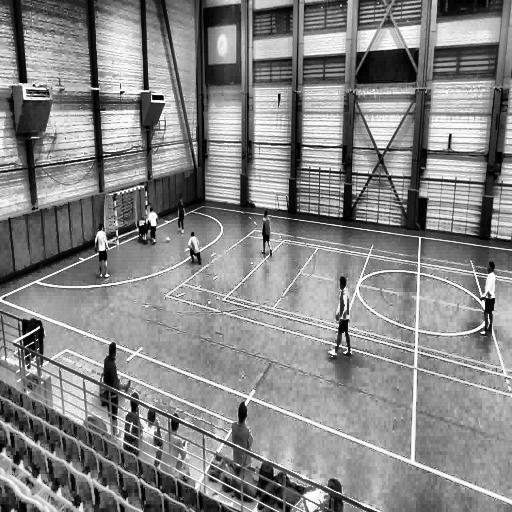ball: (166, 235, 171, 243)
player: (99, 343, 123, 436), (328, 276, 350, 360), (478, 260, 496, 335), (95, 223, 109, 277), (261, 211, 272, 255), (146, 206, 158, 245), (189, 230, 202, 265), (144, 204, 153, 244), (176, 198, 186, 232), (136, 218, 146, 245)
